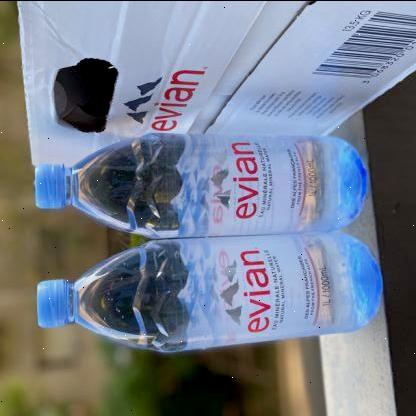Plastic Bottle: (37, 232, 383, 351), (35, 132, 368, 237)
